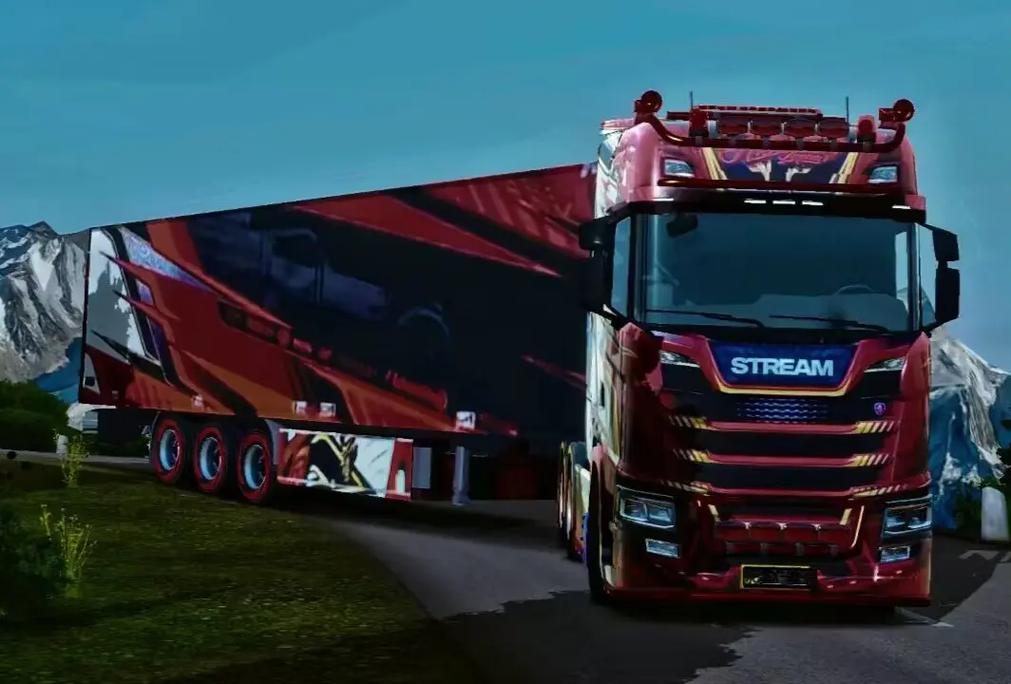卡车: (55, 30, 949, 628)
